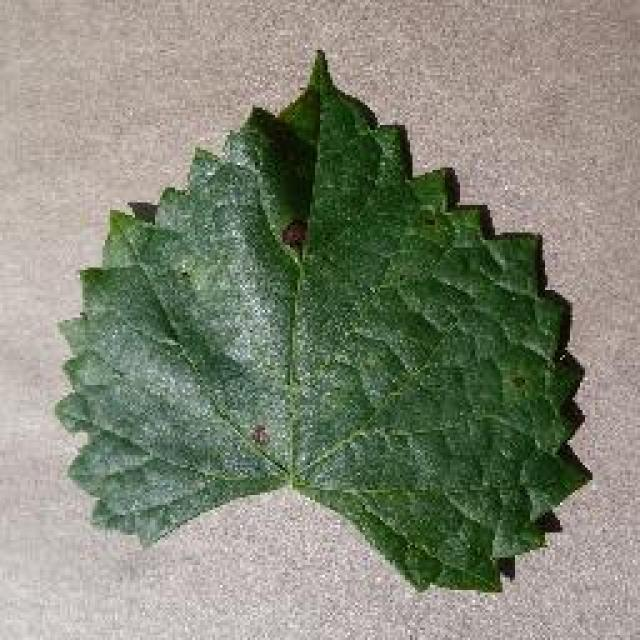Grape___Black_rot: (45, 40, 597, 599)
